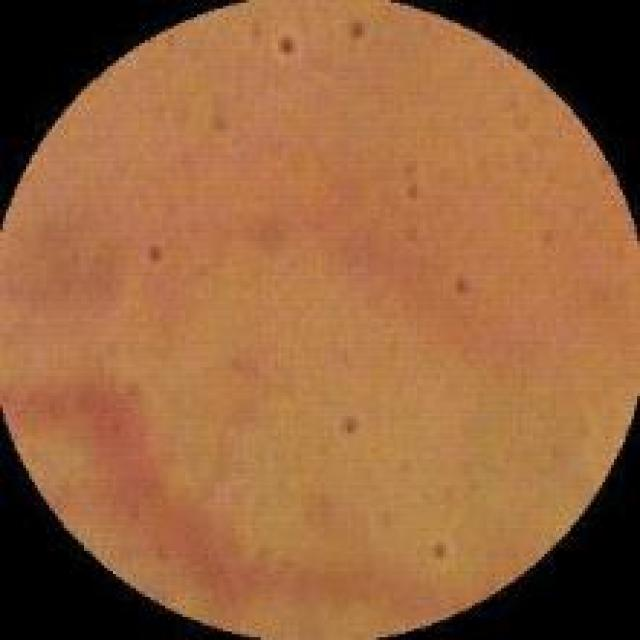color misalignment: (343, 9, 395, 56), (412, 529, 458, 576), (440, 262, 482, 310), (328, 409, 373, 449), (130, 234, 176, 273), (269, 28, 317, 62)
